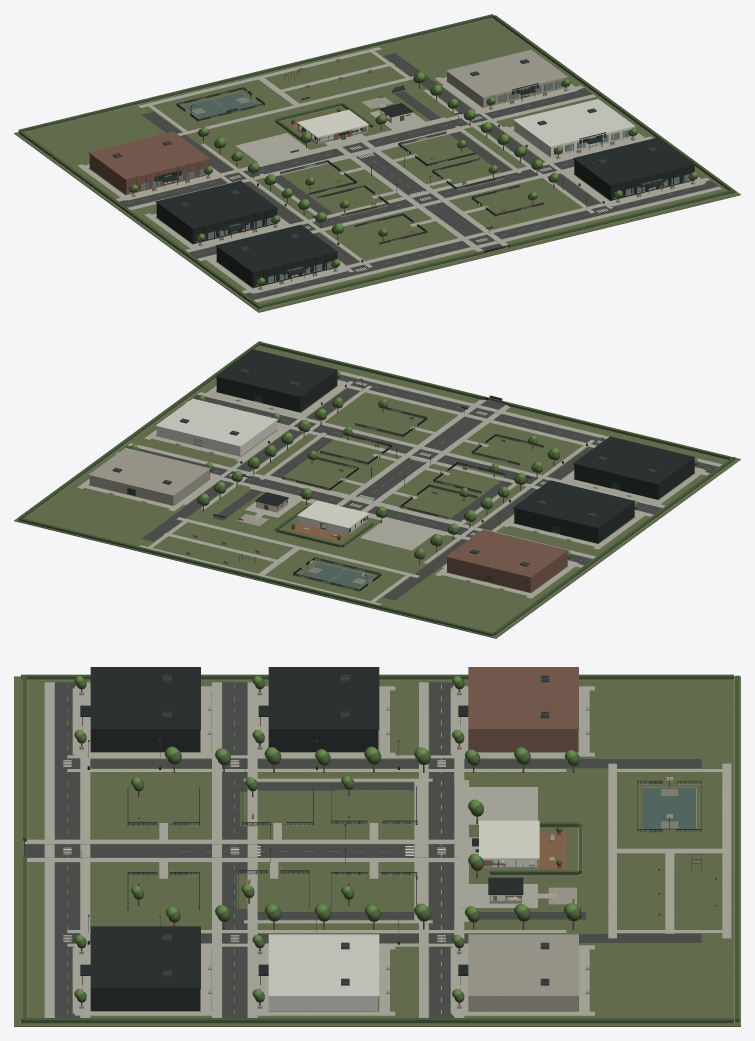
The model's file is EstateProceduralAndDoors.glb.
3 views of the same model, one above another, from view 1: azimuth 30°, elevation 25°; view 2: azimuth 150°, elevation 25°; view 3: azimuth 270°, elevation 25° (orthographic). The views are drawn at different scales.
Visible parts, largest first — view 1: EstateProceduralOriginal; view 2: EstateProceduralOriginal; view 3: EstateProceduralOriginal.
Part boxes in pixels (bbox=[...]): EstateProceduralOriginal: bbox=[14, 14, 740, 312]; EstateProceduralOriginal: bbox=[14, 341, 740, 638]; EstateProceduralOriginal: bbox=[14, 667, 740, 1026].
Bounding box in the file's own units: 232 × 8.33 × 204.
Materials: 99 (74 with a texture image).
